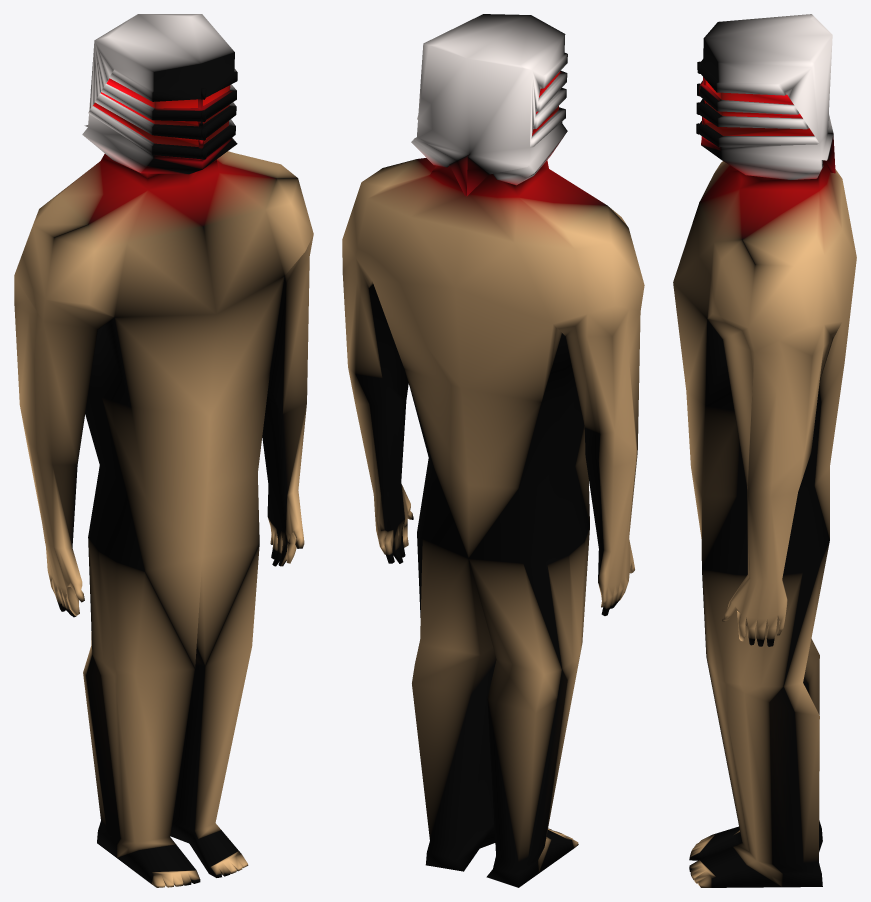
The model's file is men3.fbx.
3 views of the same model, side by side, from view 1: azimuth 30°, elevation 25°; view 2: azimuth 150°, elevation 25°; view 3: azimuth 270°, elevation 25° (orthographic).
Visible parts, largest first — view 1: Cube.001; view 2: Cube.001; view 3: Cube.001.
Part boxes in pixels (box(x1,y1,x2,y2)): Cube.001: box(14, 14, 313, 887); Cube.001: box(342, 14, 644, 887); Cube.001: box(673, 14, 856, 887).
Bounding box in the file's own units: 504 × 1429 × 287.
